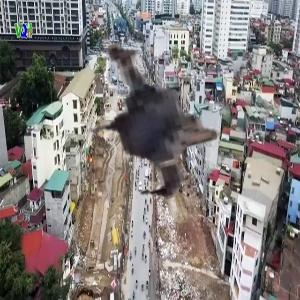drone: (46, 29, 252, 235)
